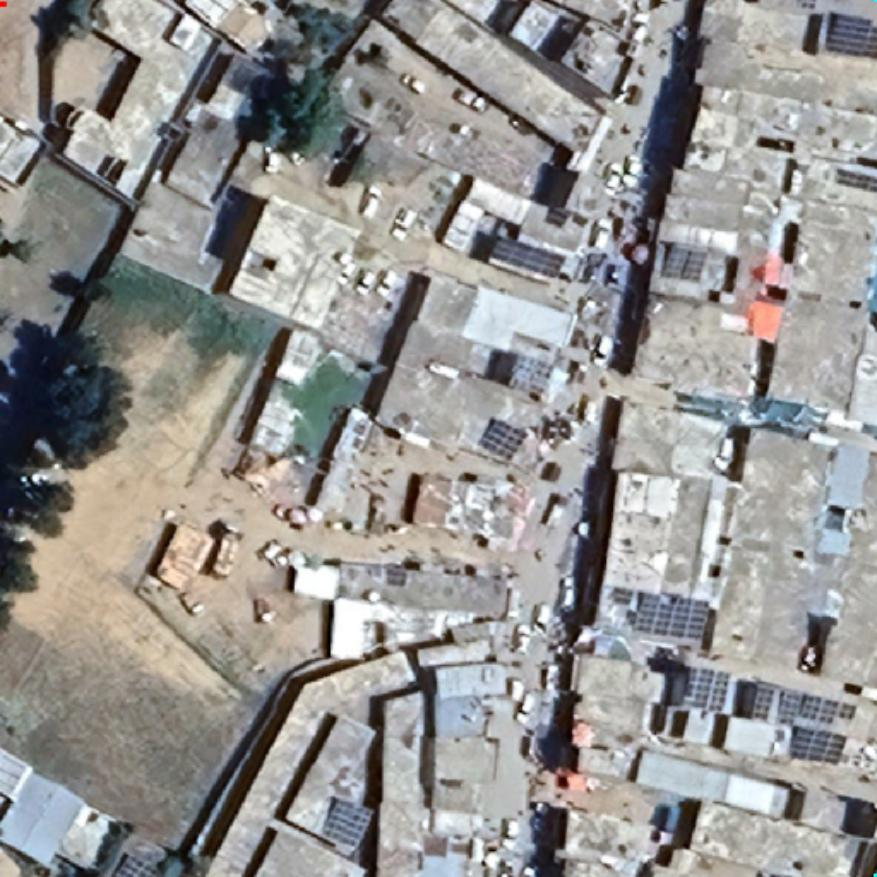Solarpanel: (634, 592, 710, 640), (489, 235, 566, 279), (778, 688, 856, 726), (322, 797, 374, 847), (825, 11, 877, 58), (788, 726, 848, 764), (684, 664, 730, 712), (479, 417, 529, 461), (504, 351, 551, 396), (662, 244, 706, 280), (111, 851, 161, 877)
